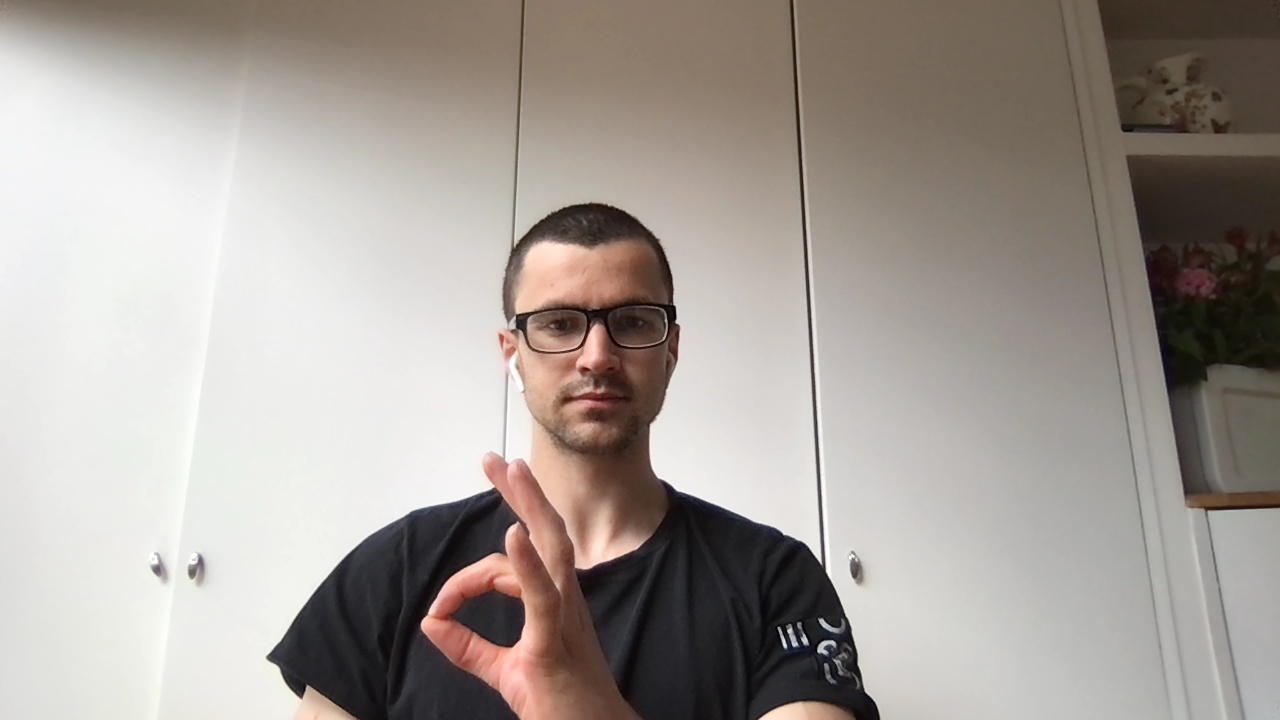thankYou: (420, 451, 626, 718)
